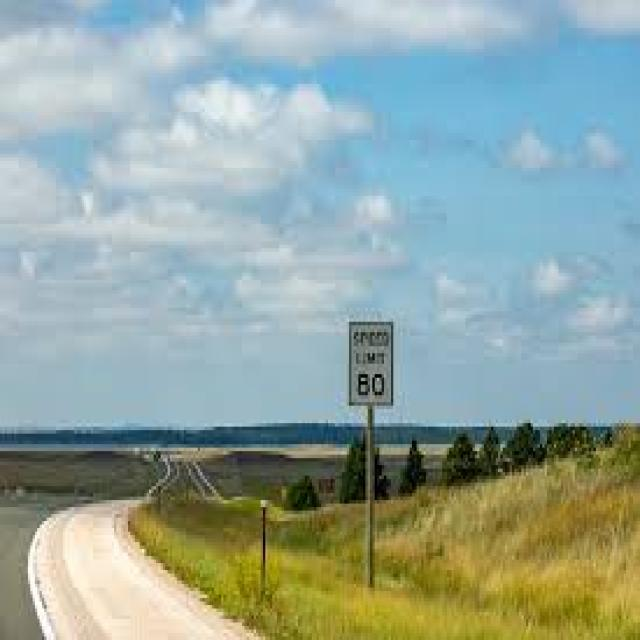speedLimit80: (338, 313, 402, 411)
